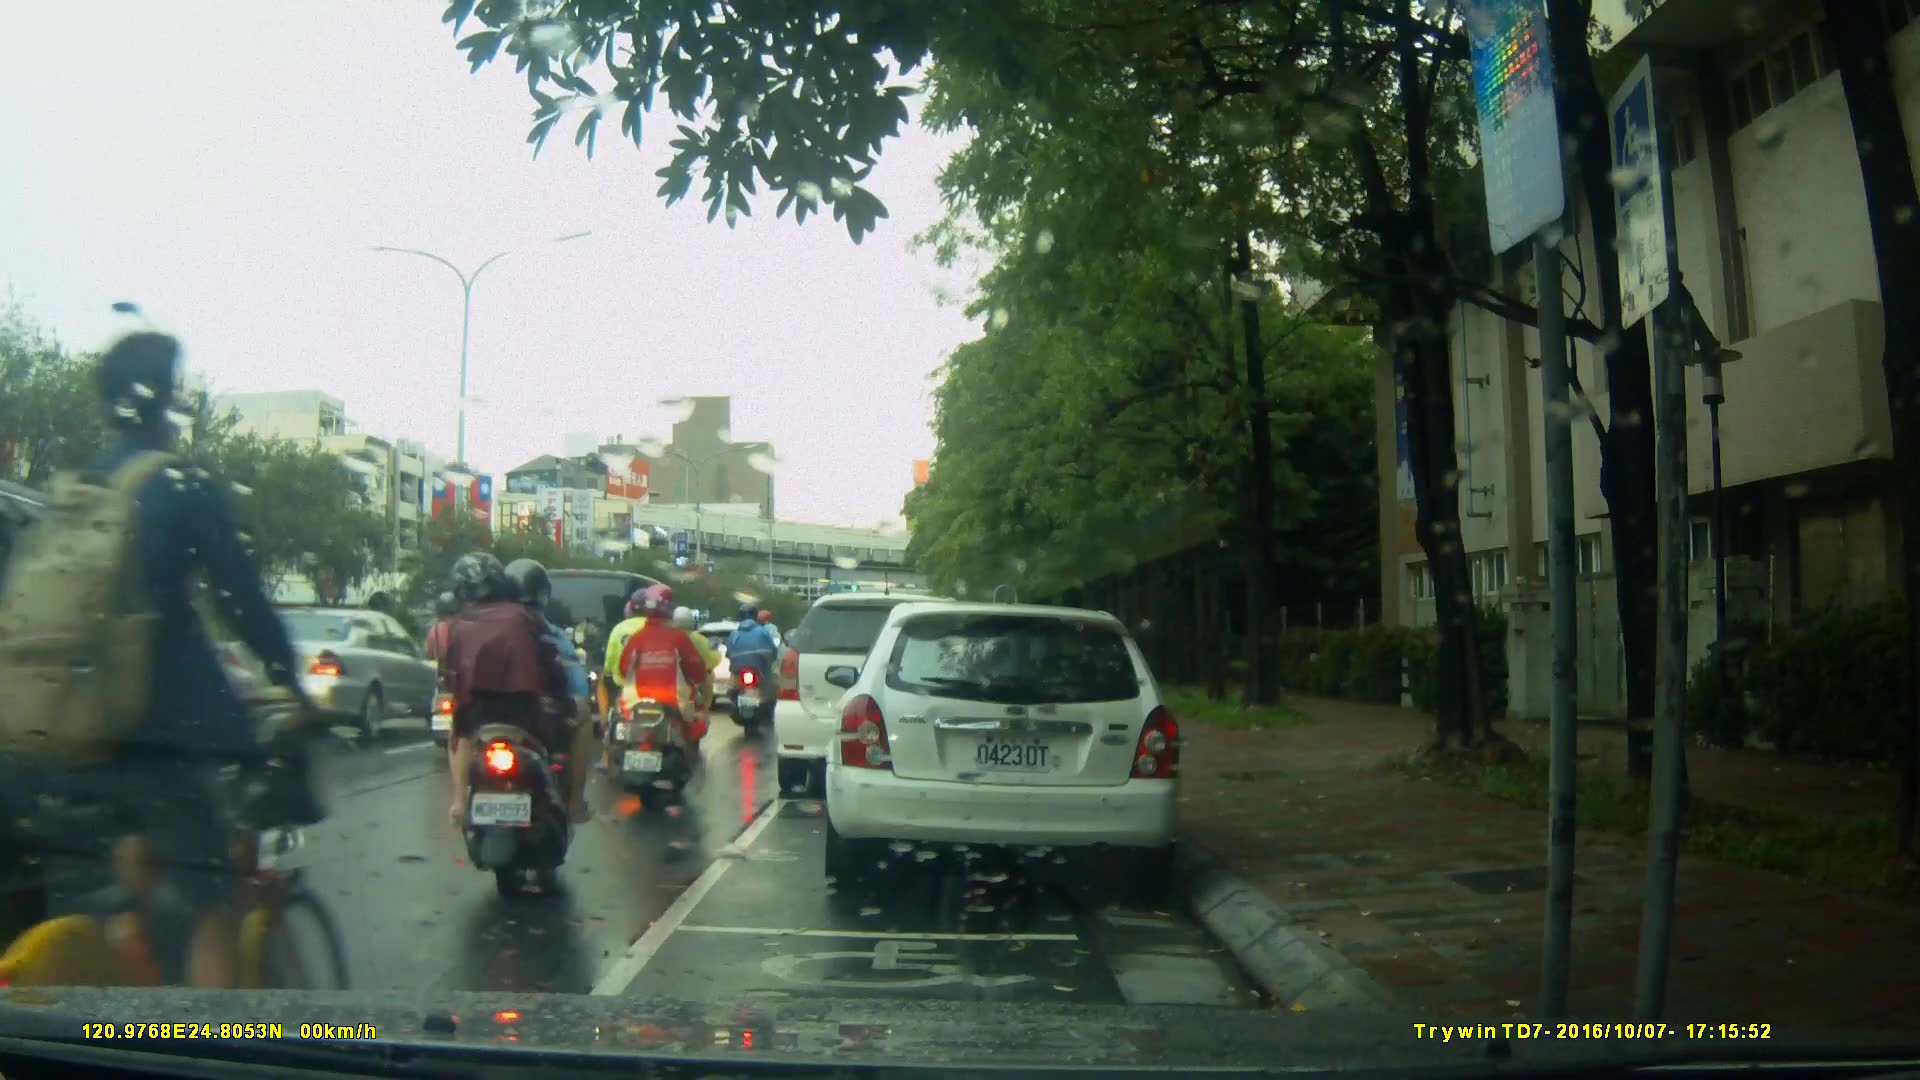rider: (17, 326, 352, 1073), (441, 551, 592, 899), (625, 587, 714, 810), (606, 592, 691, 779), (645, 597, 722, 747), (423, 590, 496, 746), (729, 595, 780, 733)
vehicle: (822, 604, 1188, 883), (774, 595, 995, 802), (203, 609, 459, 742)
